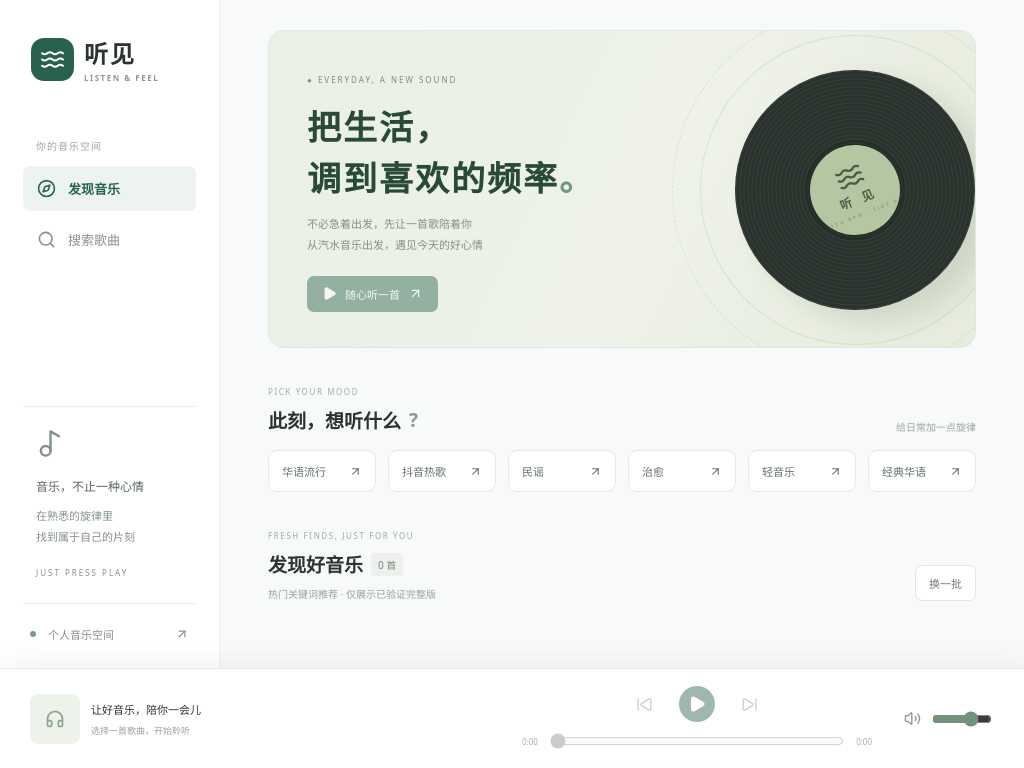
Test: ignores a delayed home response after opening the search page
Click the button "搜索歌曲" at (110, 240), box [23,217,196,262]
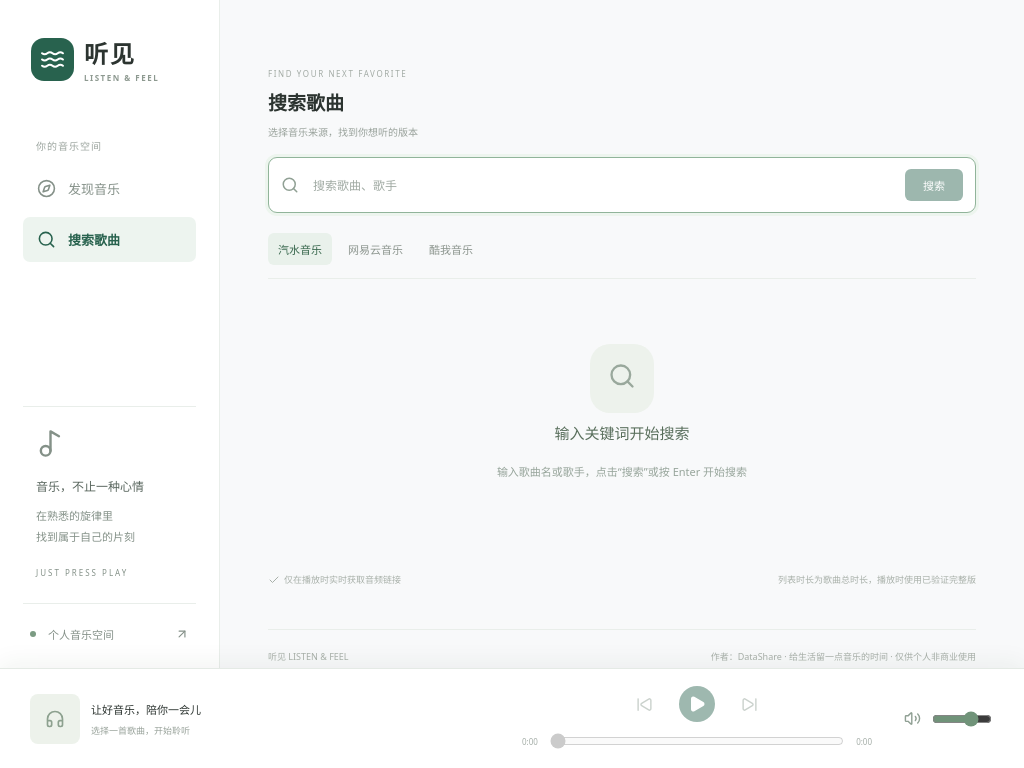
Check: the element with class "hero" is gone
Check: the element with class "empty" shows "输入关键词开始搜索", box [554,423,690,443]
